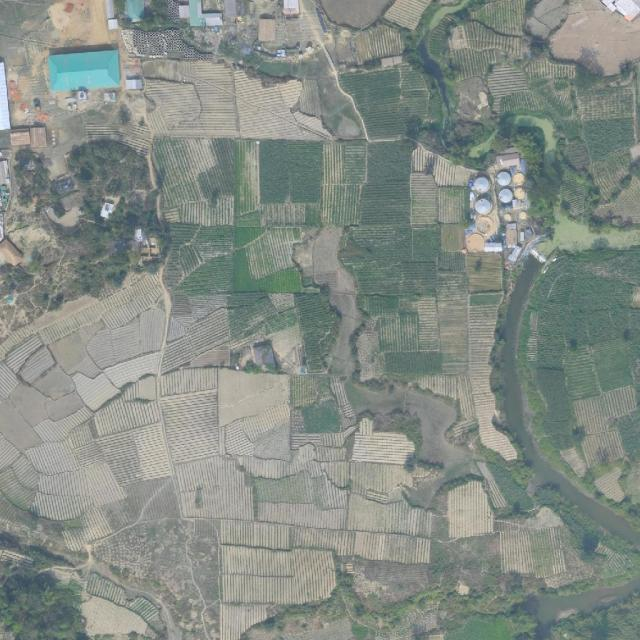agricultural_land: (144, 57, 466, 300), (0, 275, 173, 550), (332, 357, 490, 478), (92, 520, 219, 640), (161, 292, 337, 373), (291, 223, 377, 380), (35, 270, 171, 363), (459, 250, 517, 462), (338, 61, 435, 145), (356, 294, 441, 379), (441, 6, 531, 85), (81, 305, 176, 376), (287, 219, 358, 306), (528, 63, 598, 141), (0, 494, 76, 564), (403, 451, 482, 516), (48, 319, 121, 389), (82, 570, 164, 626), (315, 69, 366, 146), (368, 398, 433, 452), (37, 302, 108, 347), (487, 63, 543, 115), (30, 289, 97, 332), (314, 227, 356, 293), (81, 596, 148, 636), (519, 0, 575, 44), (351, 21, 406, 64), (145, 586, 185, 640), (469, 0, 526, 37), (453, 75, 492, 123), (83, 571, 132, 608), (171, 295, 226, 327), (329, 229, 370, 270), (465, 250, 504, 293), (573, 44, 607, 88), (105, 562, 144, 600), (561, 137, 597, 175), (560, 176, 591, 217), (525, 59, 576, 79), (292, 237, 314, 278), (299, 78, 321, 118), (614, 56, 637, 79), (468, 292, 503, 306), (50, 569, 83, 583), (504, 260, 516, 298), (410, 488, 433, 507), (416, 458, 445, 471), (530, 37, 549, 56), (123, 583, 141, 601), (380, 55, 403, 69), (364, 59, 381, 71), (129, 589, 144, 597)
building: (494, 150, 532, 248), (463, 172, 503, 253), (133, 225, 163, 264), (258, 14, 276, 41), (506, 244, 523, 264), (98, 200, 115, 220), (282, 0, 300, 18), (275, 49, 286, 58), (305, 41, 314, 52), (236, 15, 245, 24), (299, 50, 302, 58)
dryland: (275, 0, 326, 54)
greenland: (0, 134, 175, 338), (506, 116, 575, 231), (443, 73, 502, 162), (512, 102, 566, 155), (216, 20, 267, 68), (512, 124, 547, 178), (421, 10, 458, 61), (446, 120, 484, 159), (423, 0, 466, 31), (466, 129, 505, 162), (491, 112, 518, 155), (454, 150, 496, 176), (237, 0, 283, 22), (291, 60, 333, 80), (257, 60, 292, 79), (497, 112, 517, 140), (0, 624, 15, 639)
unmetalled_road: (318, 42, 343, 84)
wetland: (411, 38, 461, 110), (517, 591, 546, 619)
